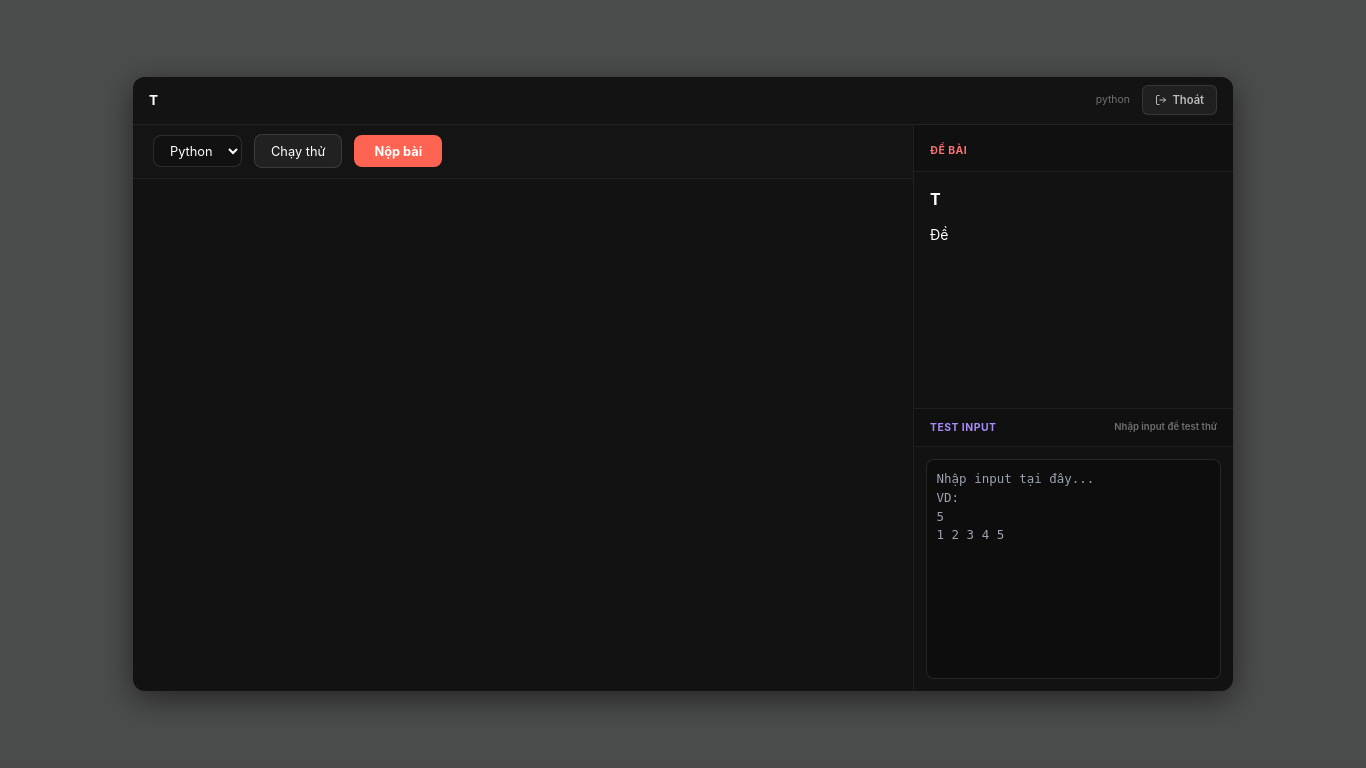
Test case: AssignmentWorkOverlay — verdict bài nộp code (chấm nền) › quá ~2 phút vẫn pending: dừng hỏi, hiện trạng thái trung tính (không phải lỗi)
Click the button "Nộp bài": (398, 151) [354,135,442,167]
Wait 150000 ms
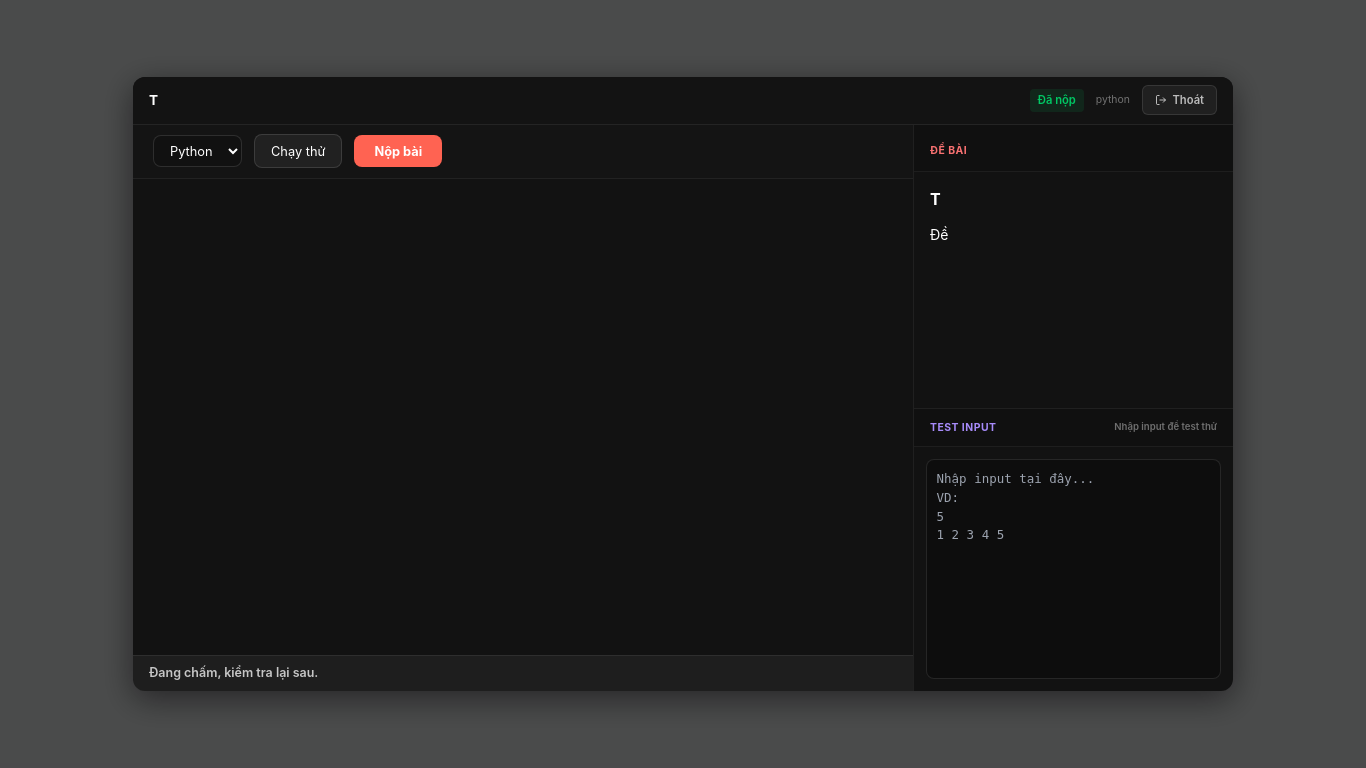
Check: the message with test id "live-submission-verdict" reads "Đang chấm, kiểm tra lại sau.", box [149,666,318,680]
